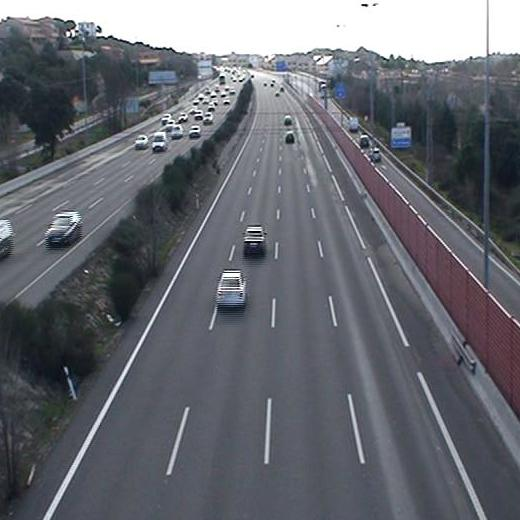car: (214, 271, 247, 306), (242, 227, 266, 256), (285, 132, 295, 143), (283, 116, 292, 126)
